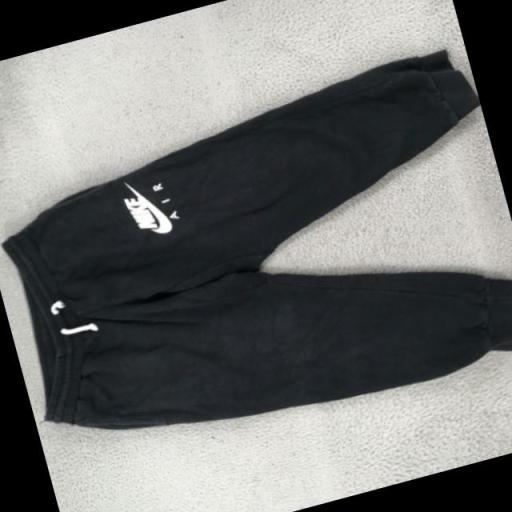Nike: (138, 178, 176, 239), (122, 190, 160, 232)
